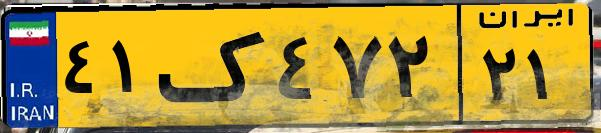1: (525, 38, 570, 115), (110, 28, 158, 98)
2: (385, 28, 445, 110), (475, 38, 525, 113)
4: (270, 28, 330, 110), (57, 26, 110, 100)
7: (330, 28, 385, 110)
ک: (158, 12, 270, 120)
